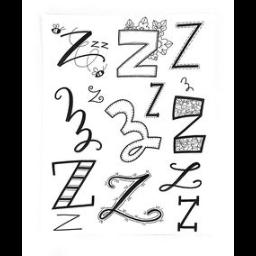z: (50, 160, 100, 210), (116, 30, 160, 78), (171, 21, 205, 71), (56, 29, 92, 69), (176, 194, 204, 232), (143, 80, 165, 120), (50, 214, 86, 234), (86, 84, 104, 104)
